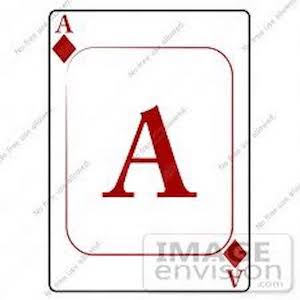AceOfDiamonds: (43, 6, 253, 297)
